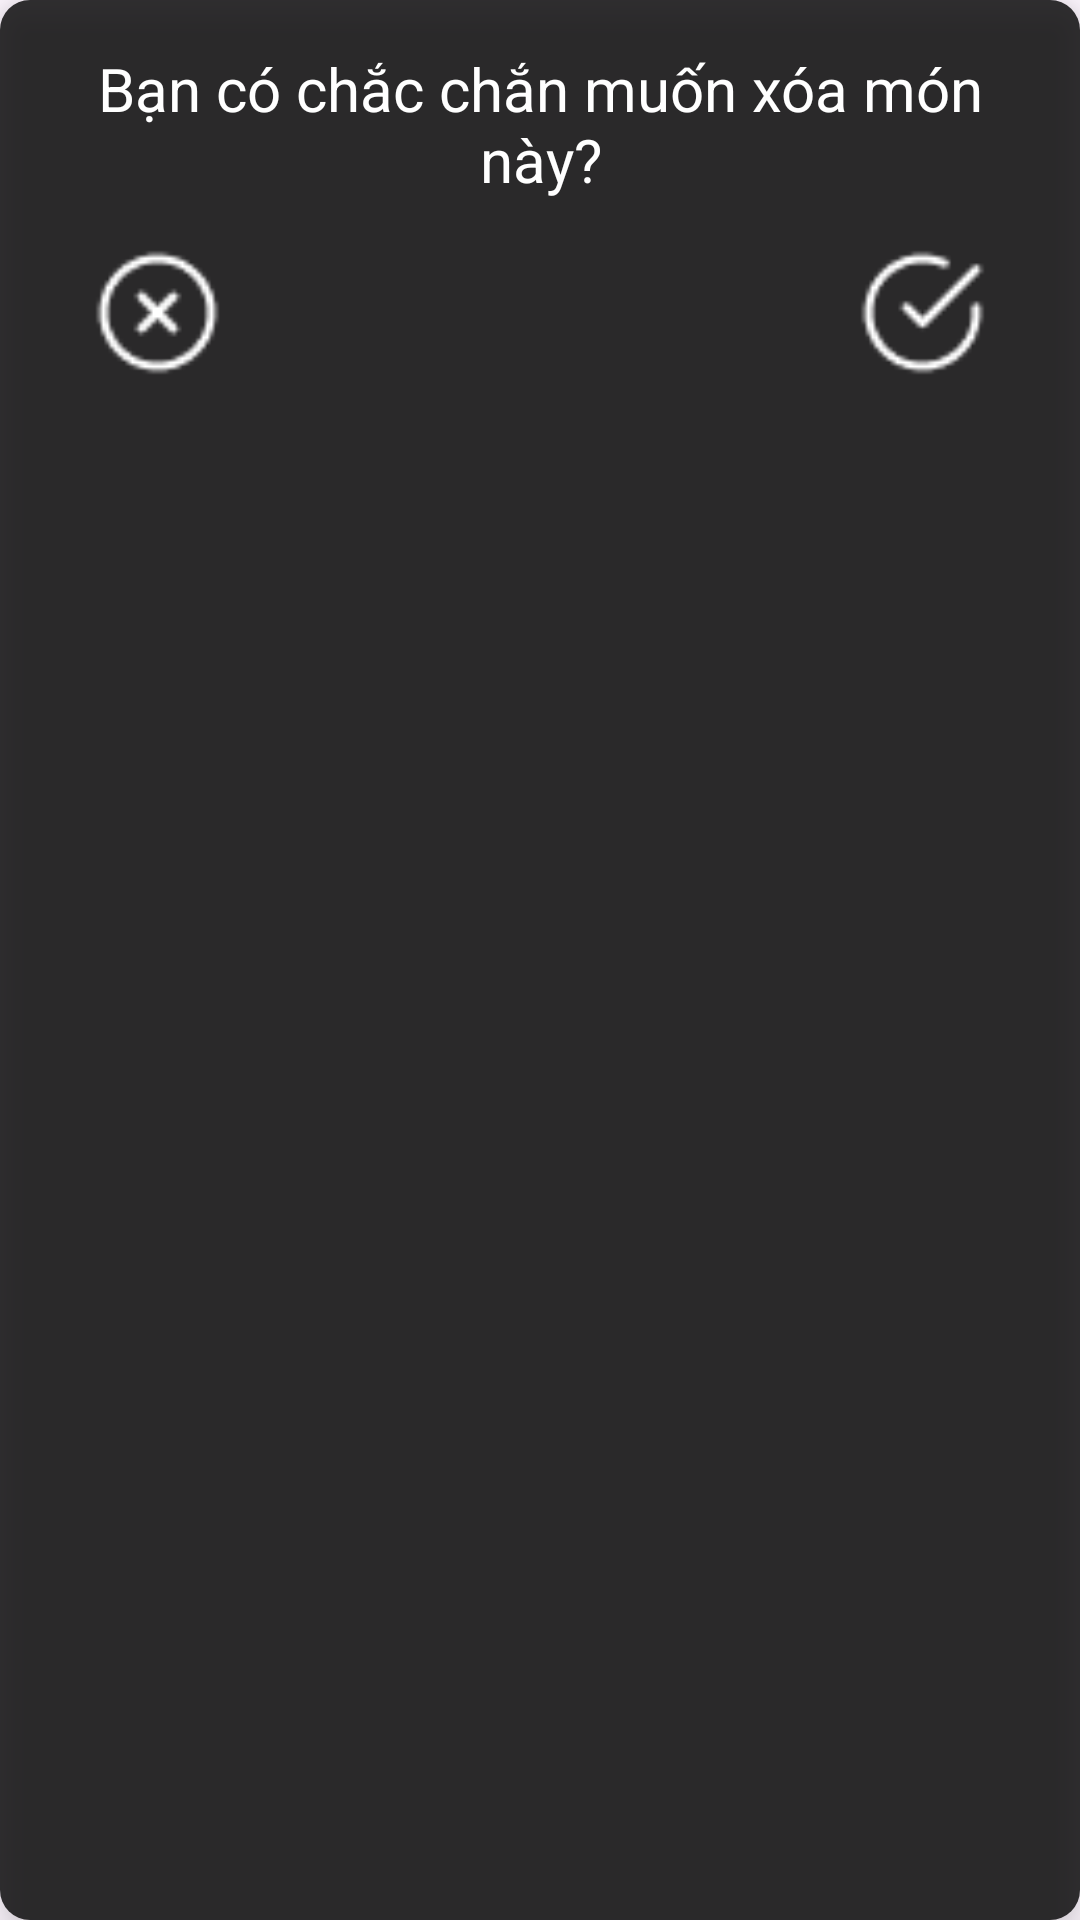

Where to tap for icons on this 1080*1920 app screen, as (x,y):
cancel: (157,312)
confirm: (922,312)
